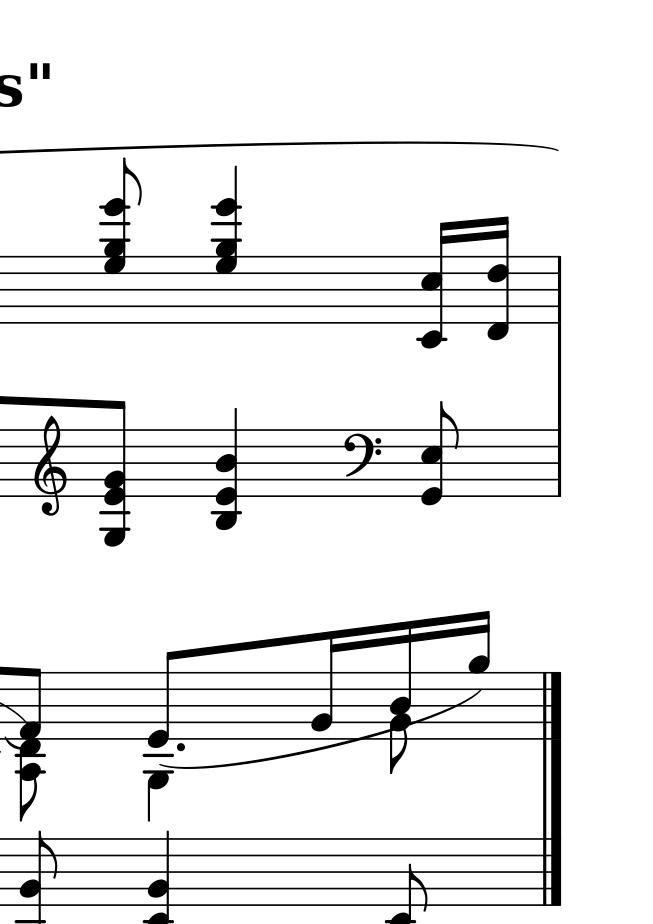16_-1_6: (486, 215, 512, 342)
16_-2_5: (418, 220, 457, 351)
16_2: (310, 630, 342, 741)
4_th: (211, 162, 241, 326), (211, 410, 242, 532)
8_0: (145, 648, 180, 750)
8_0_5: (419, 401, 460, 506)
8_th: (102, 154, 145, 327), (98, 400, 134, 549)
Fclef: (341, 428, 383, 499)
Final_barline: (536, 671, 562, 737), (535, 837, 560, 904)
Gclef: (29, 412, 71, 516)
Single_barline: (550, 430, 567, 496), (551, 256, 567, 323)
dot: (175, 739, 187, 755)
